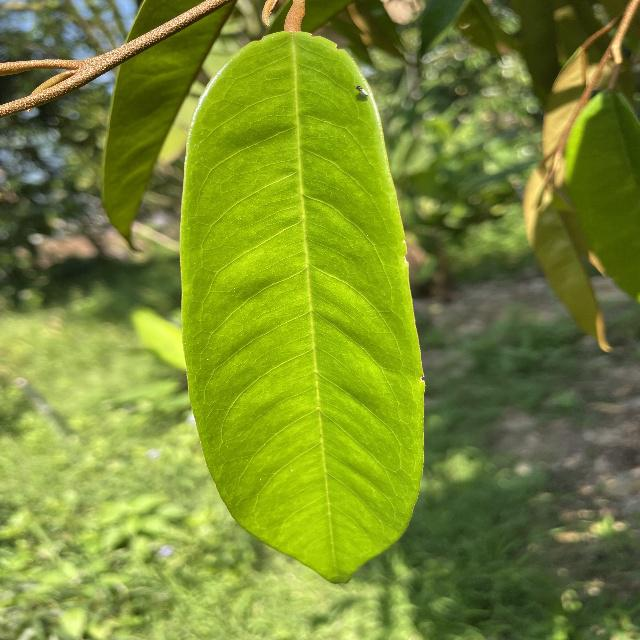No Disease: (167, 21, 446, 597)
